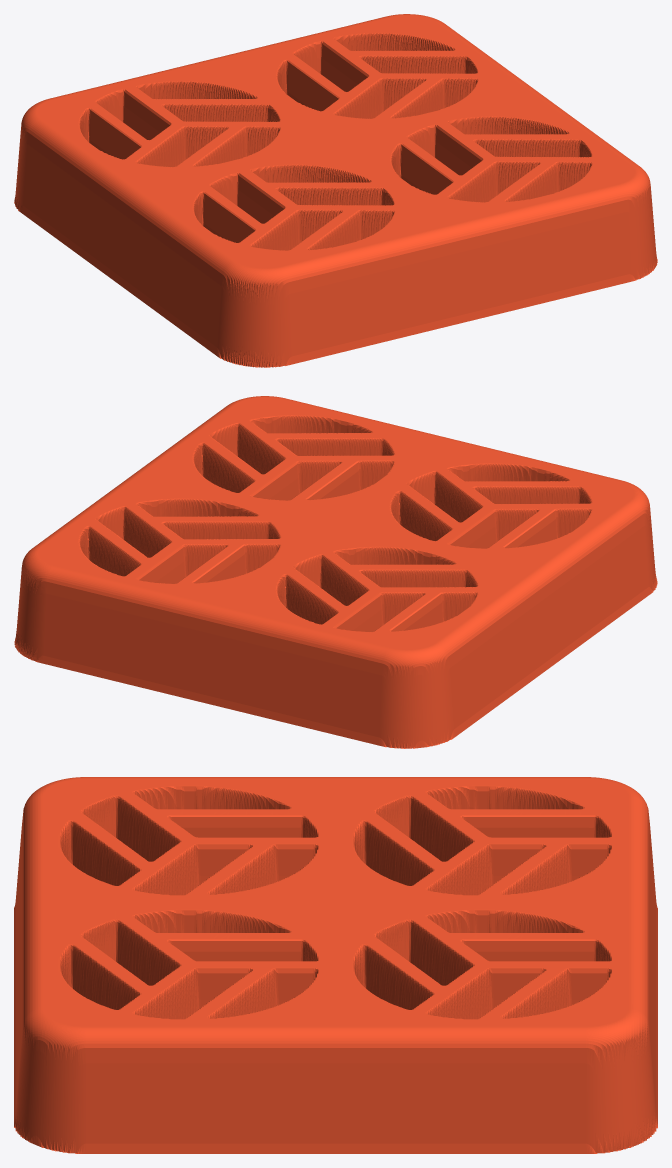
File: mold.glb
The picture shows the model from 3 angles, top to bottom: view 1: azimuth 30°, elevation 25°; view 2: azimuth 150°, elevation 25°; view 3: azimuth 270°, elevation 25°; orthographic projection. The views are drawn at different scales.
Parts seen in each view (by area): view 1: geometry_0; view 2: geometry_0; view 3: geometry_0.
Boxes of the visible parts, left/top/right/bottom form: geometry_0: left=14, top=14, right=657, bottom=367; geometry_0: left=14, top=396, right=657, bottom=748; geometry_0: left=14, top=777, right=657, bottom=1153.
Bounding box in the file's own units: 0.0808 × 0.0159 × 0.0808.
